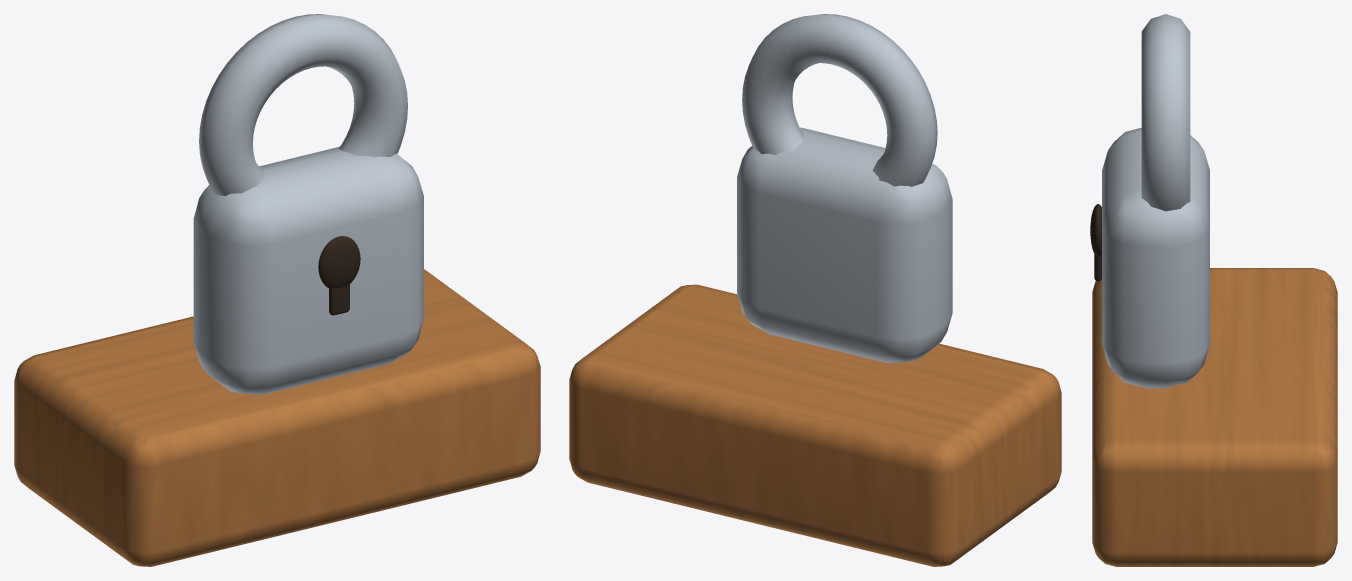
File: display-locked.glb
The picture shows the model from 3 angles, left to right: view 1: azimuth 30°, elevation 25°; view 2: azimuth 150°, elevation 25°; view 3: azimuth 270°, elevation 25°; orthographic projection. The views are drawn at different scales.
Visible parts, largest first — view 1: Wooden award plinth.008, Lock body, Lock shackle, Lock keyhole; view 2: Wooden award plinth.008, Lock body, Lock shackle; view 3: Wooden award plinth.008, Lock body, Lock shackle, Lock keyhole.
Part boxes in pixels (box(x1,y1,x2,y2)): Wooden award plinth.008: box(14, 269, 540, 566); Lock body: box(193, 146, 423, 394); Lock shackle: box(199, 14, 407, 195); Lock keyhole: box(318, 236, 360, 288); Wooden award plinth.008: box(569, 284, 1061, 566); Lock body: box(737, 127, 952, 363); Lock shackle: box(742, 14, 937, 186); Wooden award plinth.008: box(1092, 268, 1337, 566); Lock body: box(1102, 127, 1209, 388); Lock shackle: box(1141, 14, 1190, 211); Lock keyhole: box(1090, 204, 1101, 256).
Size of the model in its own units: 0.46 by 0.512 by 0.252.
3 materials, 1 textured.
